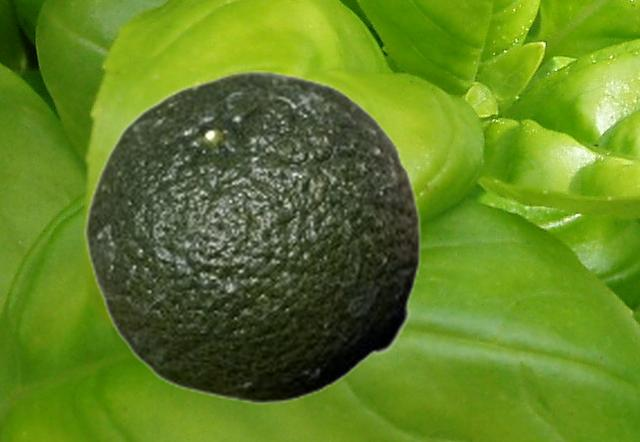calamansi: (84, 70, 421, 403)
